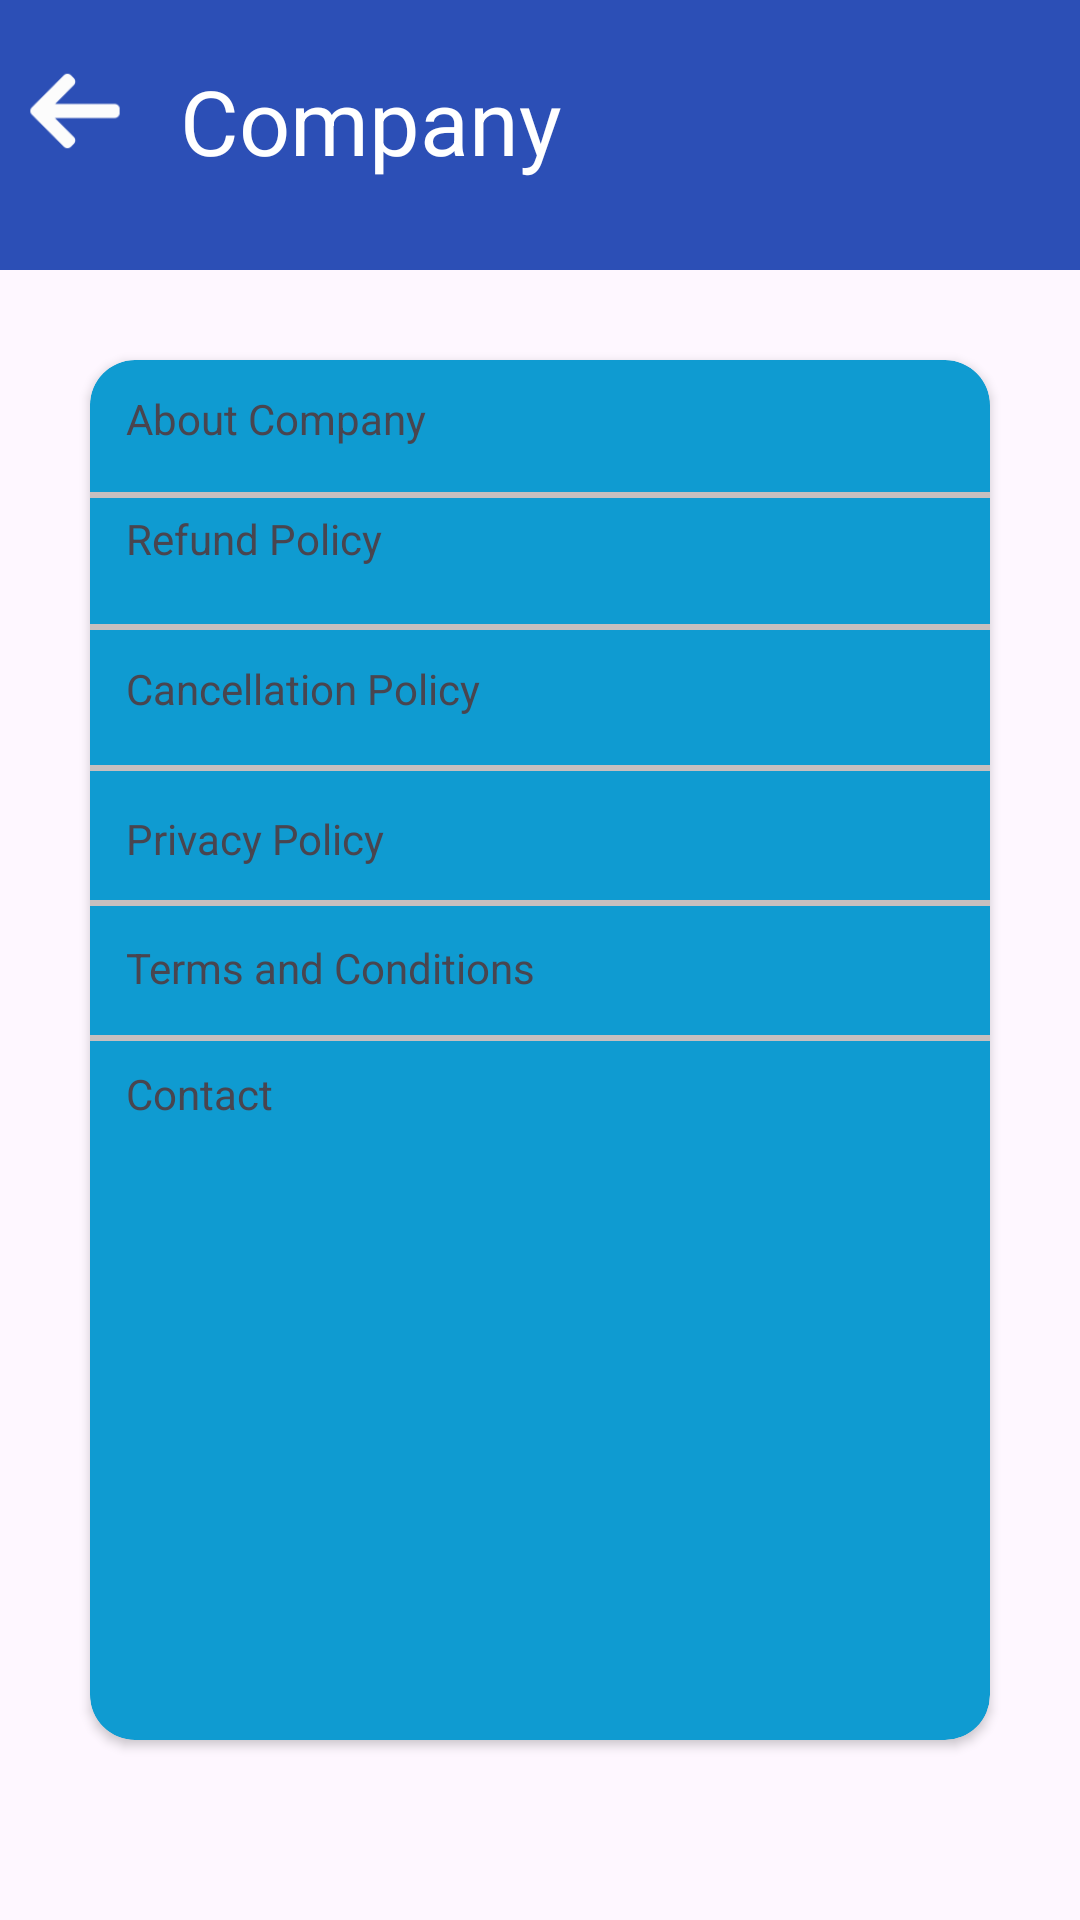

Icon click points for this 1080 × 1920 phone screenshot, format (x,y):
arrow left: (75,111)
